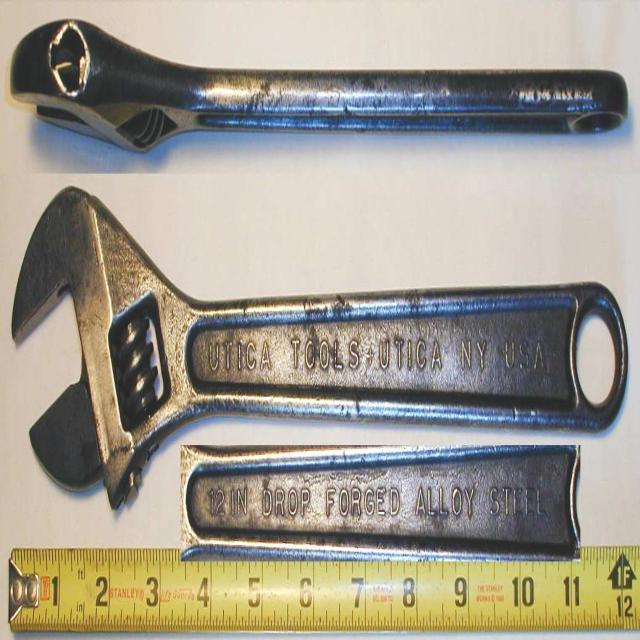wrench: (8, 158, 640, 505)
